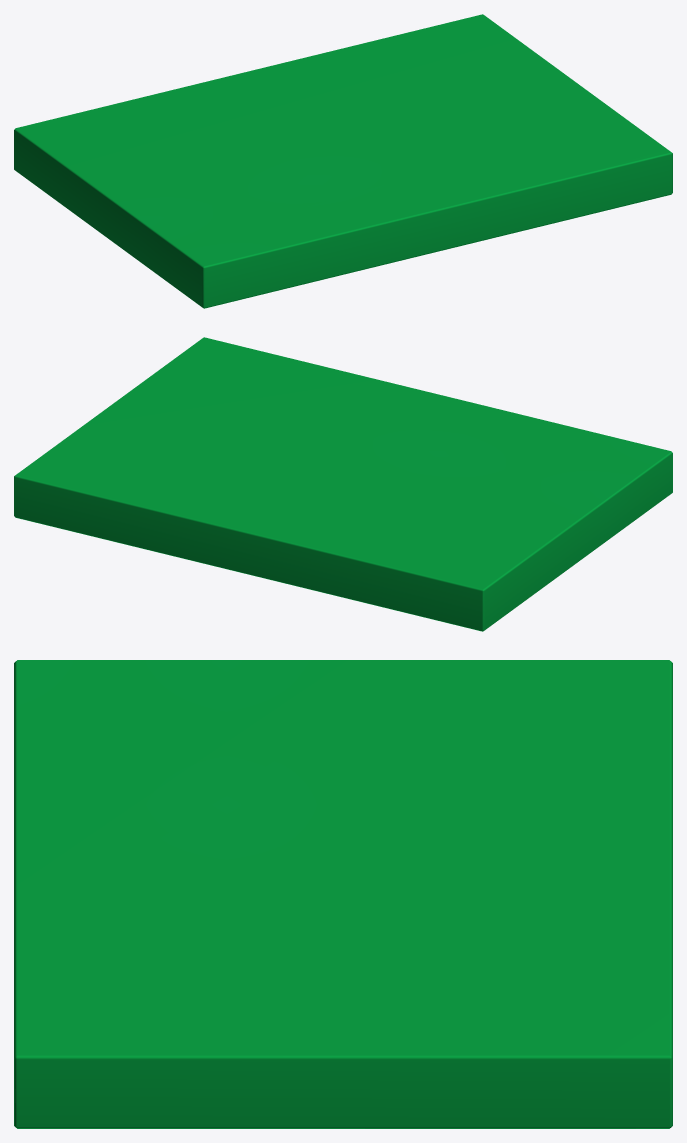
File: Town_7_Base_1.glb
3 renders of one model, top to bottom at view 1: azimuth 30°, elevation 25°; view 2: azimuth 150°, elevation 25°; view 3: azimuth 270°, elevation 25°, orthographic. The views are drawn at different scales.
Visible parts, largest first — view 1: Town_7_Base_1; view 2: Town_7_Base_1; view 3: Town_7_Base_1.
Part boxes in pixels (left/top/right/bottom): Town_7_Base_1: left=14, top=14, right=672, bottom=308; Town_7_Base_1: left=14, top=337, right=672, bottom=631; Town_7_Base_1: left=14, top=660, right=672, bottom=1128.
Bounding box in the file's own units: 13.24 × 1.15 × 9.27.
Materials: 1 (1 with a texture image).
